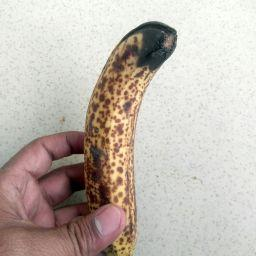banana: (83, 19, 178, 256)
